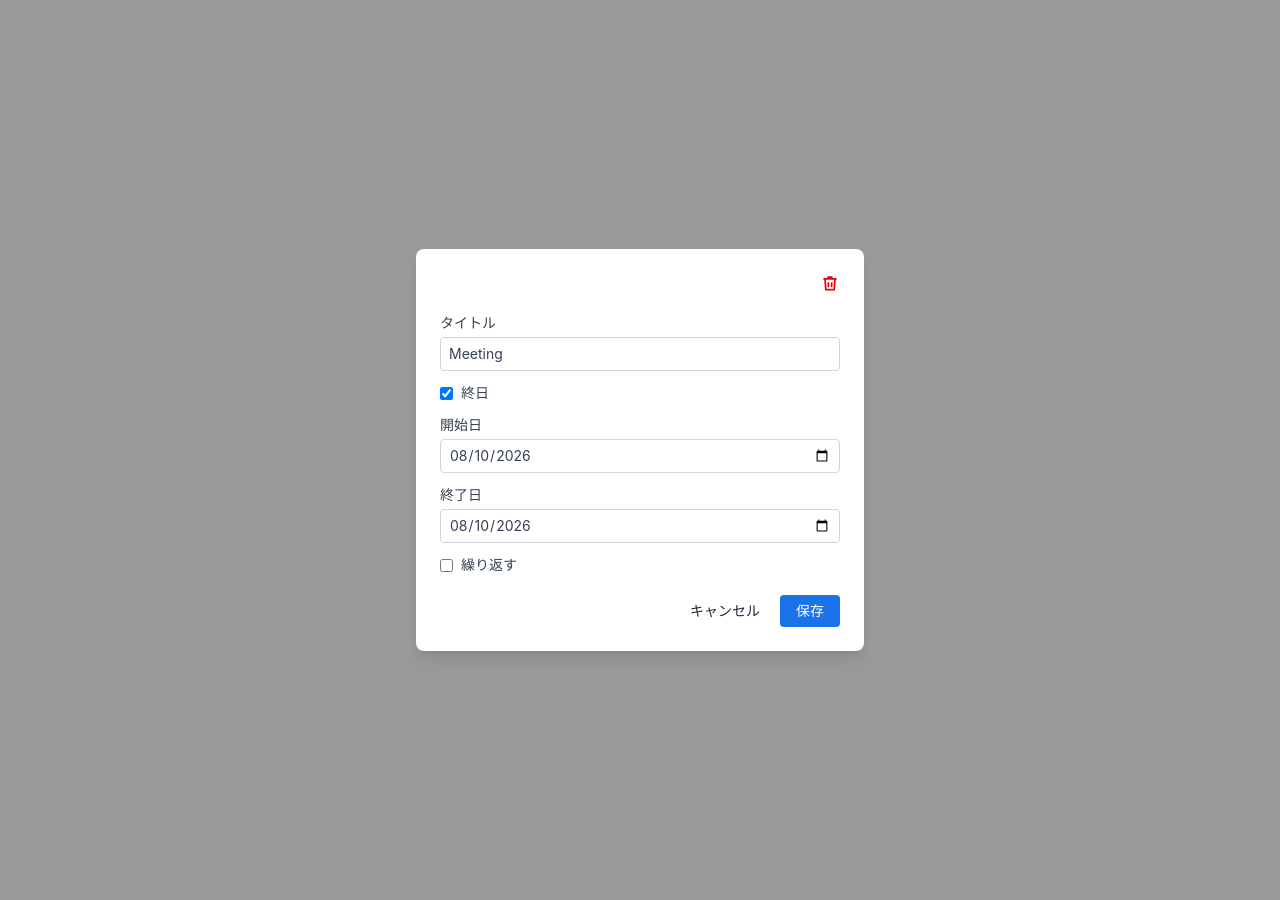
Test: keeps the confirmation open and reports a delete failure
The image size is (1280, 900).
Click the button named "予定を削除" at x=830, y=283, box [812, 265, 848, 301]
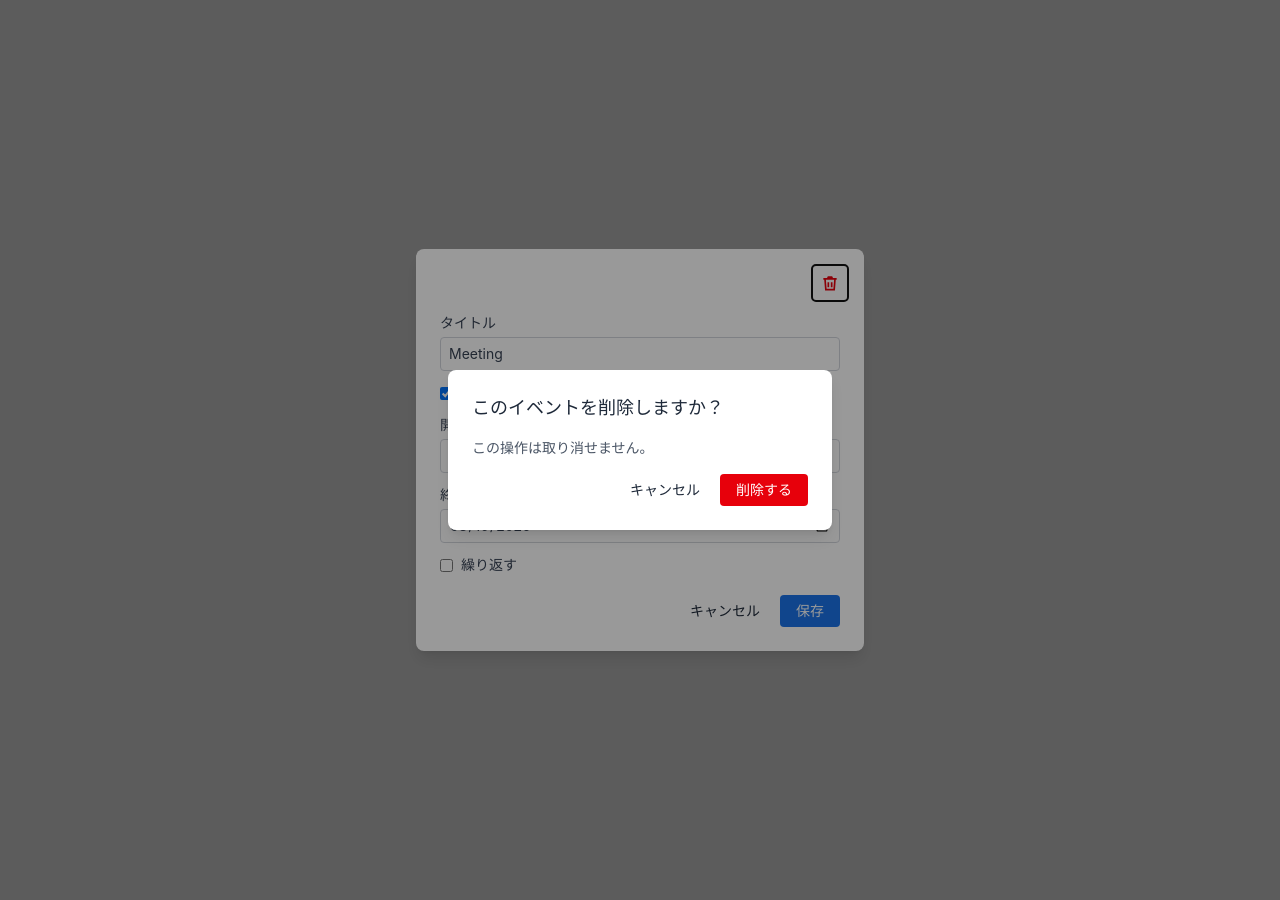
Click the button "削除する" at x=764, y=490, box [720, 474, 808, 506]
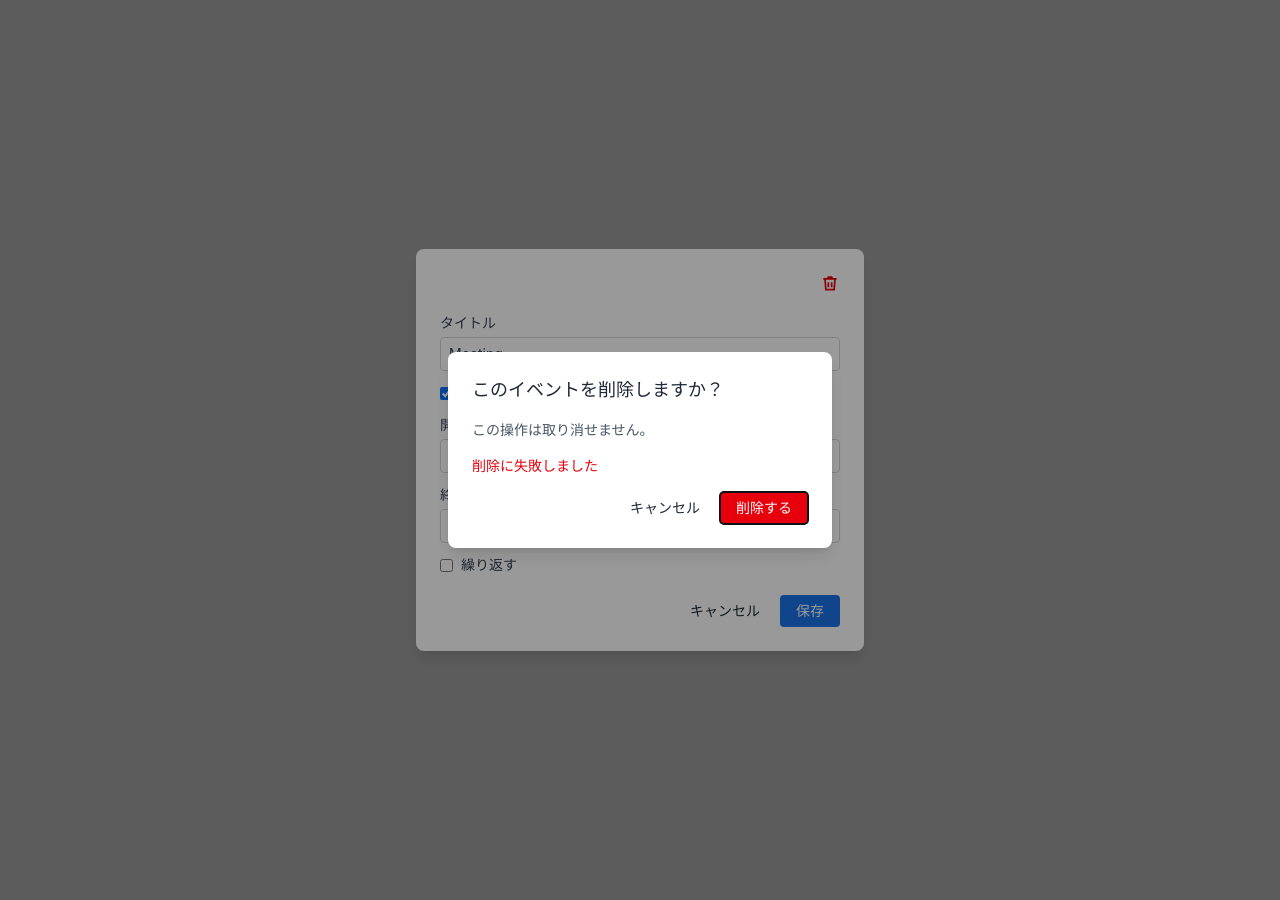
expect the dialog "このイベントを削除しますか？ この操作は取り消せません。 削除に失敗しました キャンセル 削除する" is shown: met, box [448, 352, 832, 548]
